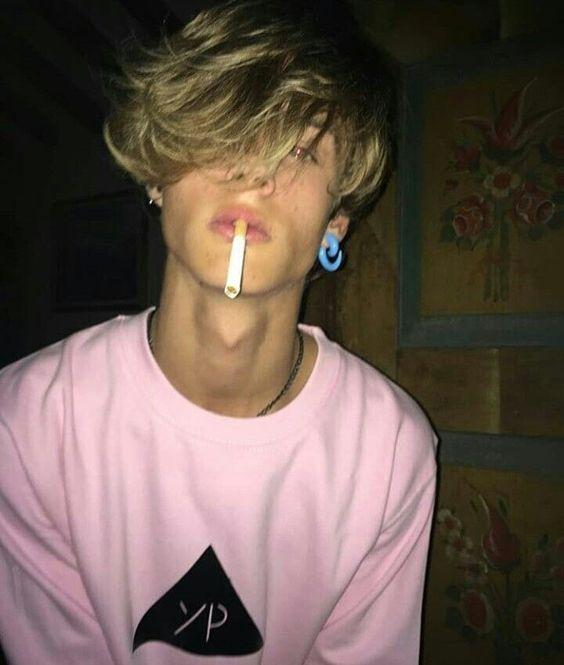cigarette: (225, 218, 248, 299)
